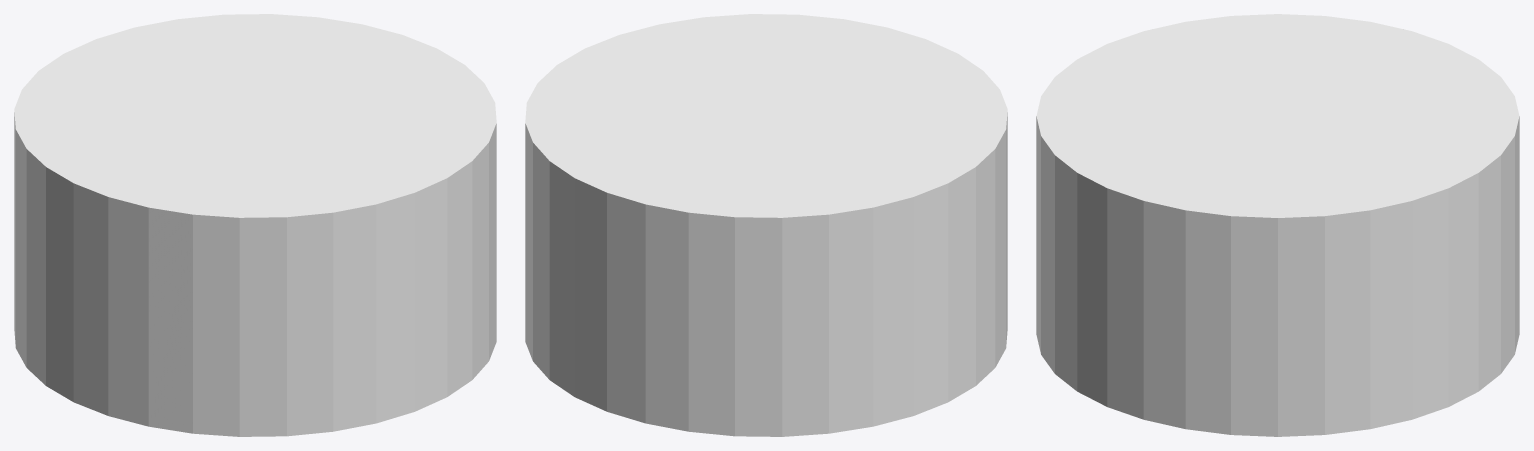
3 renders of one model, left to right at view 1: azimuth 30°, elevation 25°; view 2: azimuth 150°, elevation 25°; view 3: azimuth 270°, elevation 25°, orthographic.
Parts seen in each view (by area): view 1: 円柱; view 2: 円柱; view 3: 円柱.
Part boxes in pixels (x1,y1,x2,y2): 円柱: [14, 14, 496, 436]; 円柱: [525, 14, 1007, 436]; 円柱: [1036, 14, 1519, 436].
Size of the model in its own units: 2 by 1 by 2.
1 material, 1 textured.
